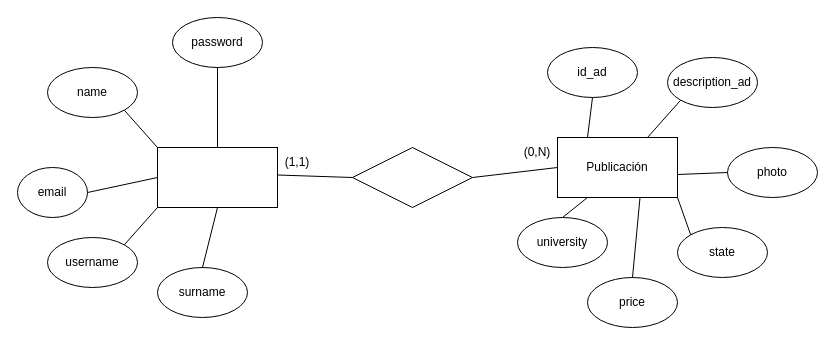
Image size: 835x345. Some labels were removed from this diagram. The centre of each missing label's shape, as x and y in pixels:
create: point 412,177
User: point 217,177
